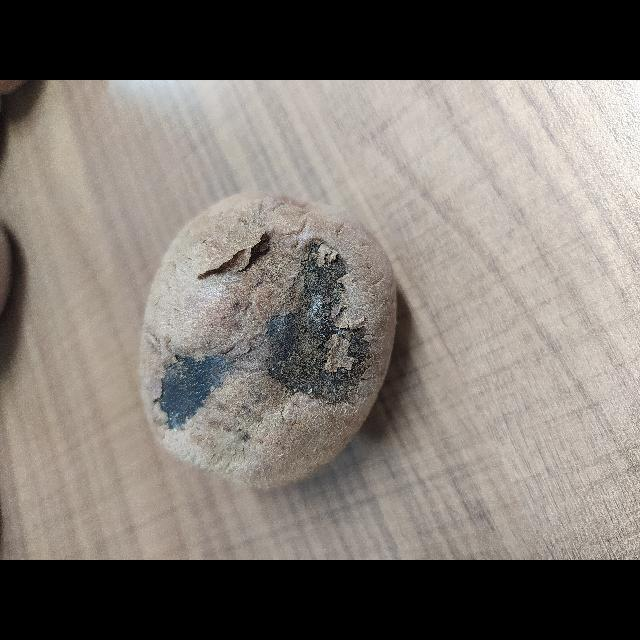Damaged potato: (58, 207, 376, 486)
